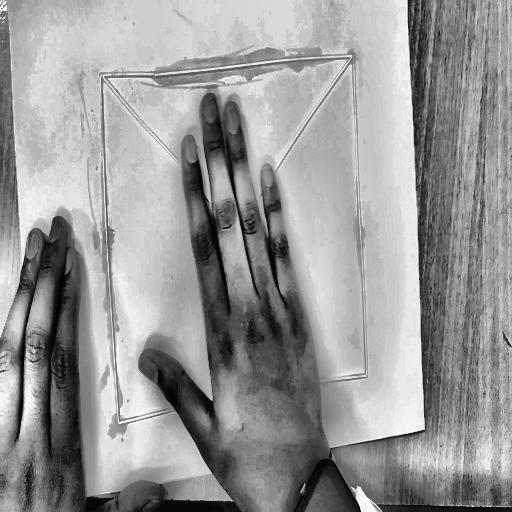bottom_left: (43, 493, 49, 503)
bottom_right: (422, 425, 427, 433)
envelop: (95, 43, 378, 435)
